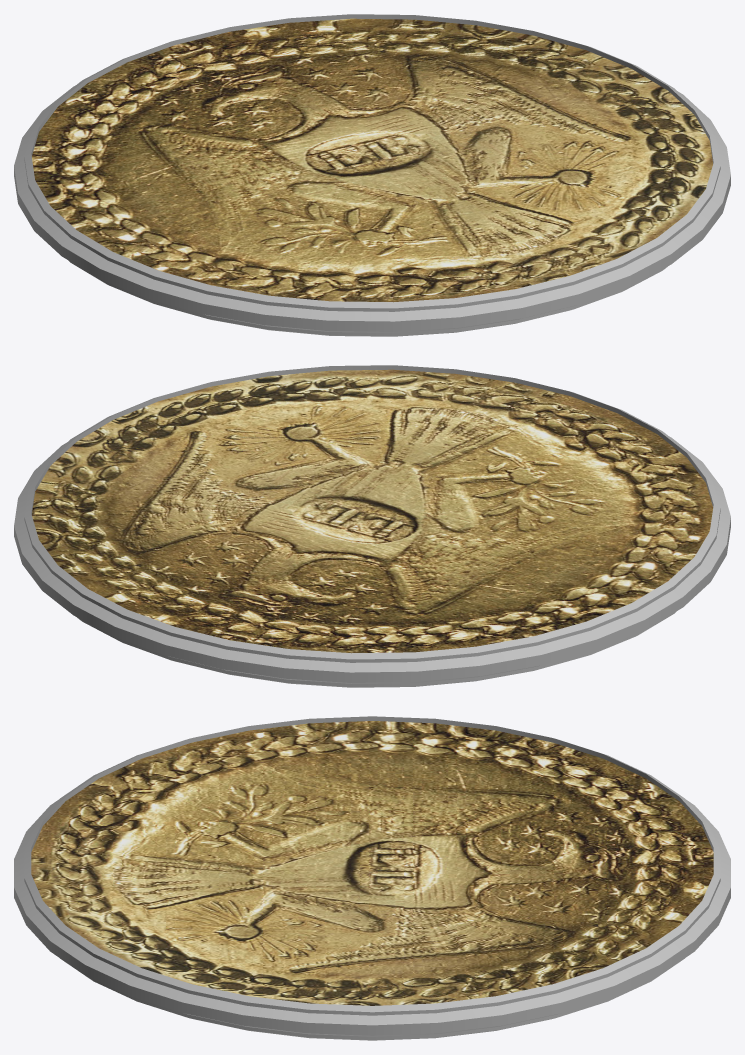
Rendered from coin.fbx.
The picture shows the model from 3 angles, top to bottom: view 1: azimuth 30°, elevation 25°; view 2: azimuth 150°, elevation 25°; view 3: azimuth 270°, elevation 25°; orthographic projection.
Parts seen in each view (by area): view 1: pCylinder1; view 2: pCylinder1; view 3: pCylinder1.
Part boxes in pixels (<box>): pCylinder1: <box>14,14,730,336</box>; pCylinder1: <box>14,365,730,687</box>; pCylinder1: <box>14,716,730,1040</box>.
Bounding box in the file's own units: 14.26 × 0.7595 × 14.2.
